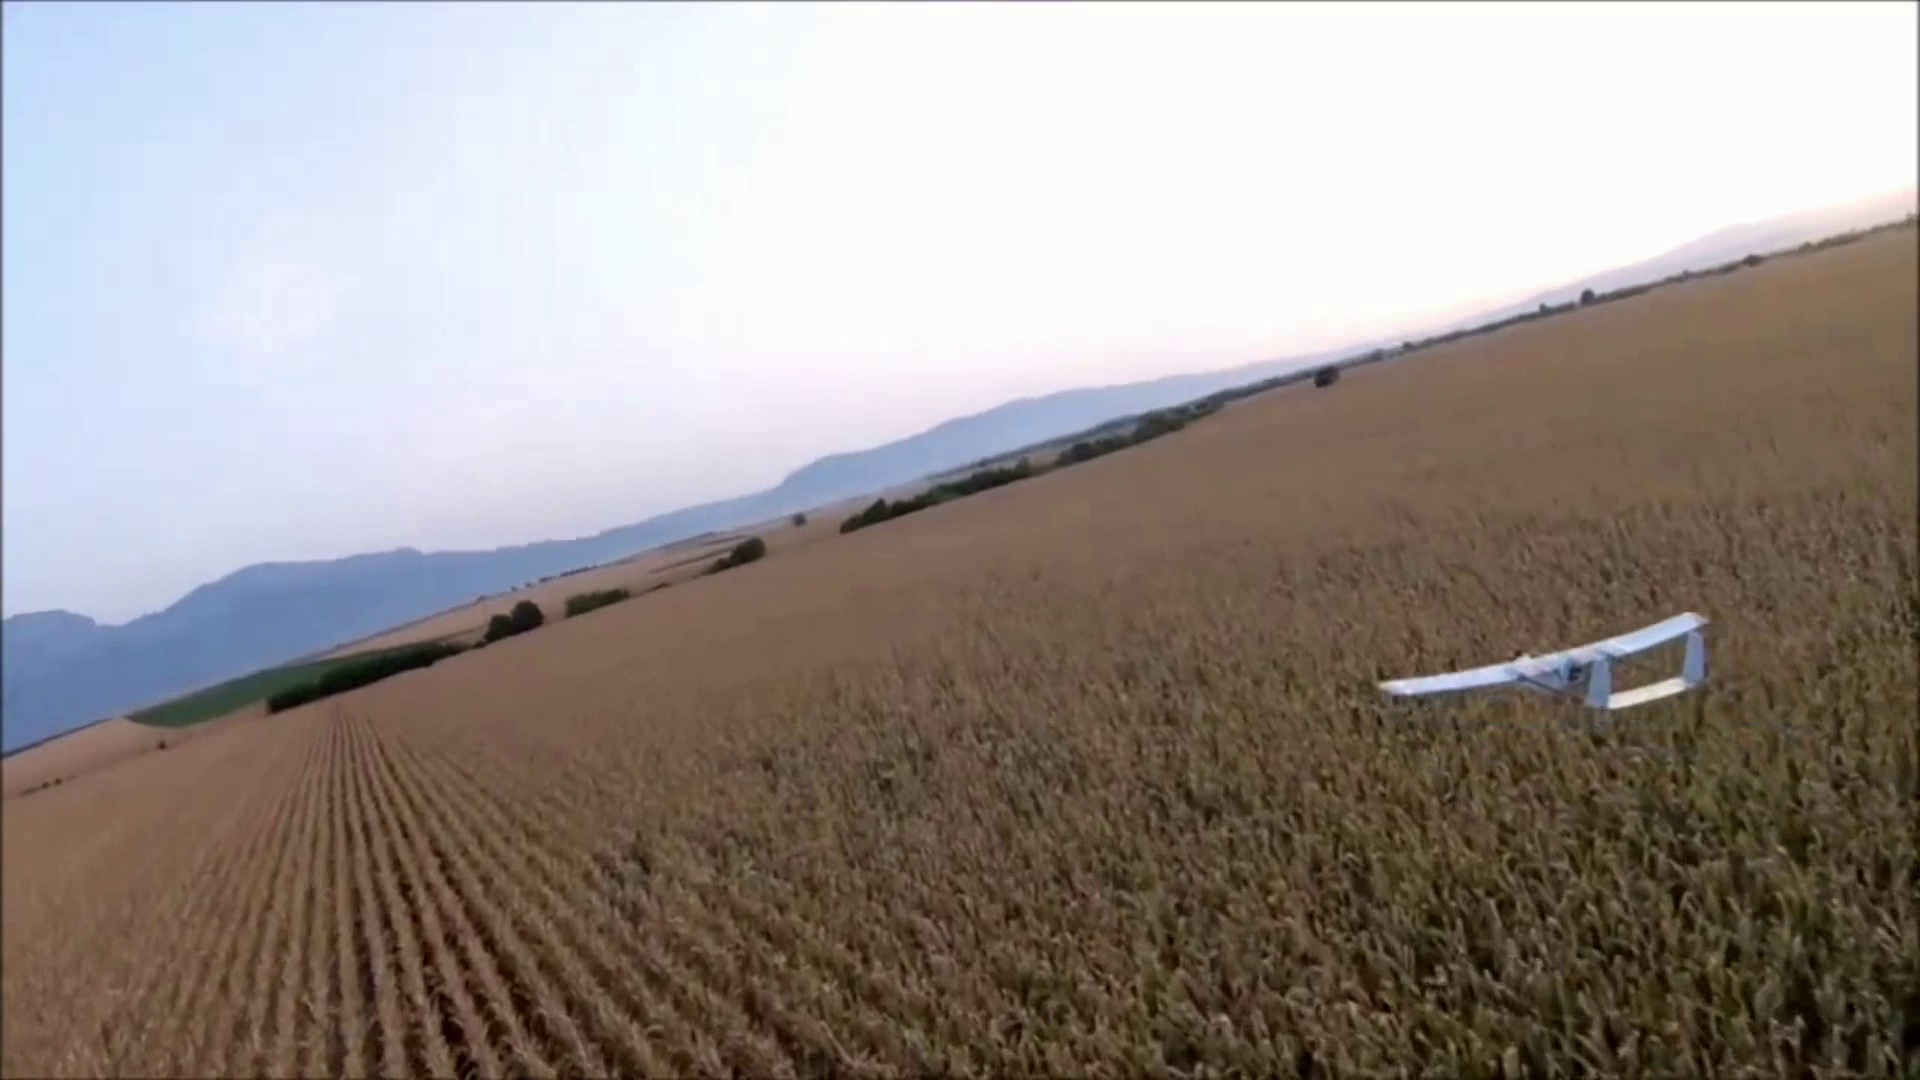airplane: (55, 215, 1894, 752), (1379, 612, 1710, 712)
